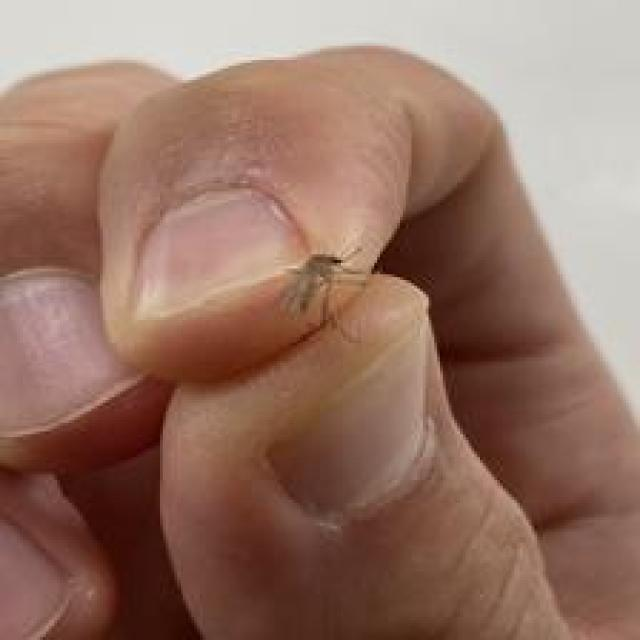Culex: (277, 245, 372, 328)
